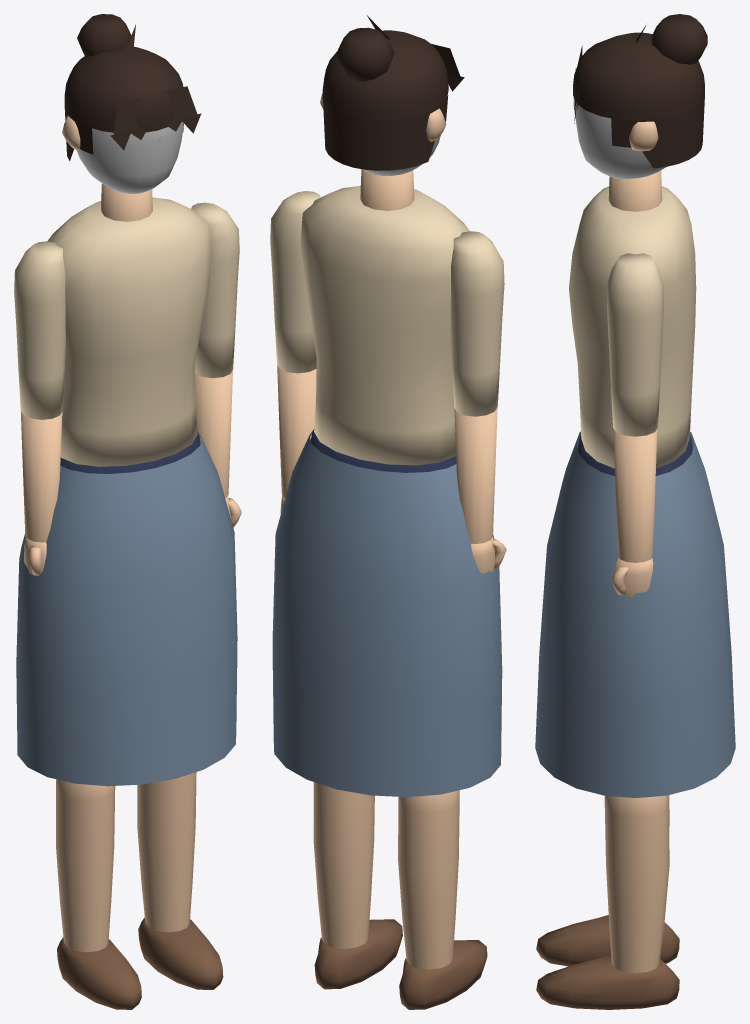
File: mother.glb
3 views of the same model, side by side, from view 1: azimuth 30°, elevation 25°; view 2: azimuth 150°, elevation 25°; view 3: azimuth 270°, elevation 25° (orthographic). The views are drawn at different scales.
Visible parts, largest first — view 1: hips, torso, head, shinR, shinL, armR, armL, foreR, foreL; view 2: hips, torso, head, shinR, shinL, armR, armL, foreR, foreL; view 3: hips, torso, head, shinL, armL, foreL, shinR.
Boxes of the visible parts, x1,y1,x2,y2 form: hips: (16, 432, 237, 786); torso: (47, 183, 212, 466); head: (62, 14, 201, 193); shinR: (56, 779, 141, 1009); shinL: (137, 772, 223, 989); armR: (14, 241, 65, 419); armL: (191, 202, 239, 378); foreR: (20, 411, 62, 576); foreL: (195, 370, 241, 527); hips: (272, 429, 502, 797); torso: (300, 169, 469, 465); head: (320, 15, 464, 175); shinR: (398, 790, 487, 1009); shinL: (313, 782, 402, 989); armR: (450, 231, 504, 416); armL: (270, 191, 320, 373); foreR: (454, 407, 506, 573); foreL: (277, 365, 316, 513); hips: (535, 431, 735, 797); torso: (569, 170, 696, 468); head: (573, 14, 707, 179); shinL: (536, 795, 679, 1009); armL: (607, 253, 663, 436); foreL: (611, 429, 657, 596); shinR: (536, 795, 679, 966).
Bounding box in the file's own units: 0.4258 × 1.75 × 0.3298.
